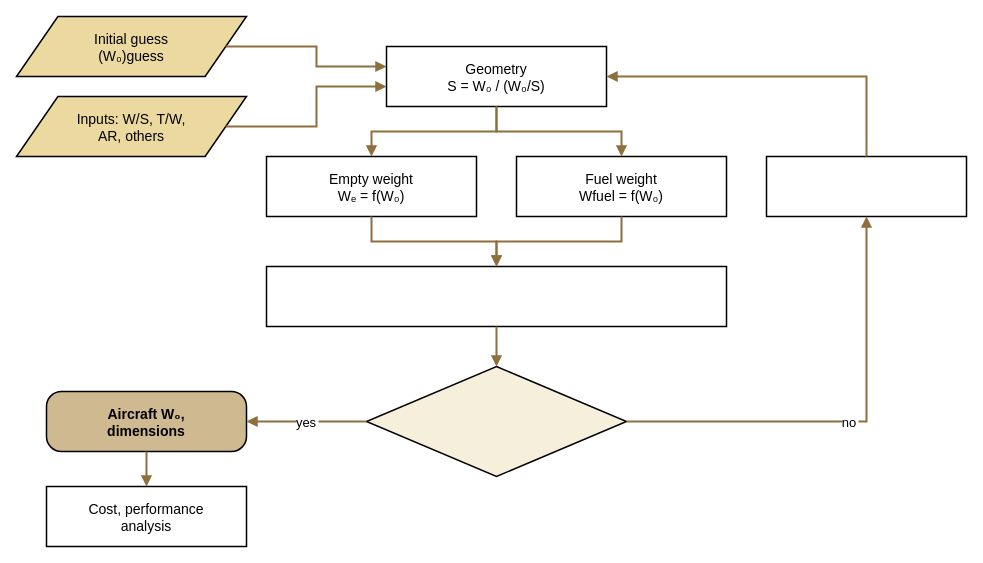
Image size: 983x563. Some labels were removed from this diagram. The centre of each missing label's shape, as x and y in pixels:
"(W₀)calc ≈ (W₀)guess ?" goes at pixel 496 421.
"(W₀)guess = (W₀)calc" goes at pixel 866 186.
"Gross weight (W₀)calc = Wcrew + Wpayload + Wₑ + Wfuel" goes at pixel 496 296.
